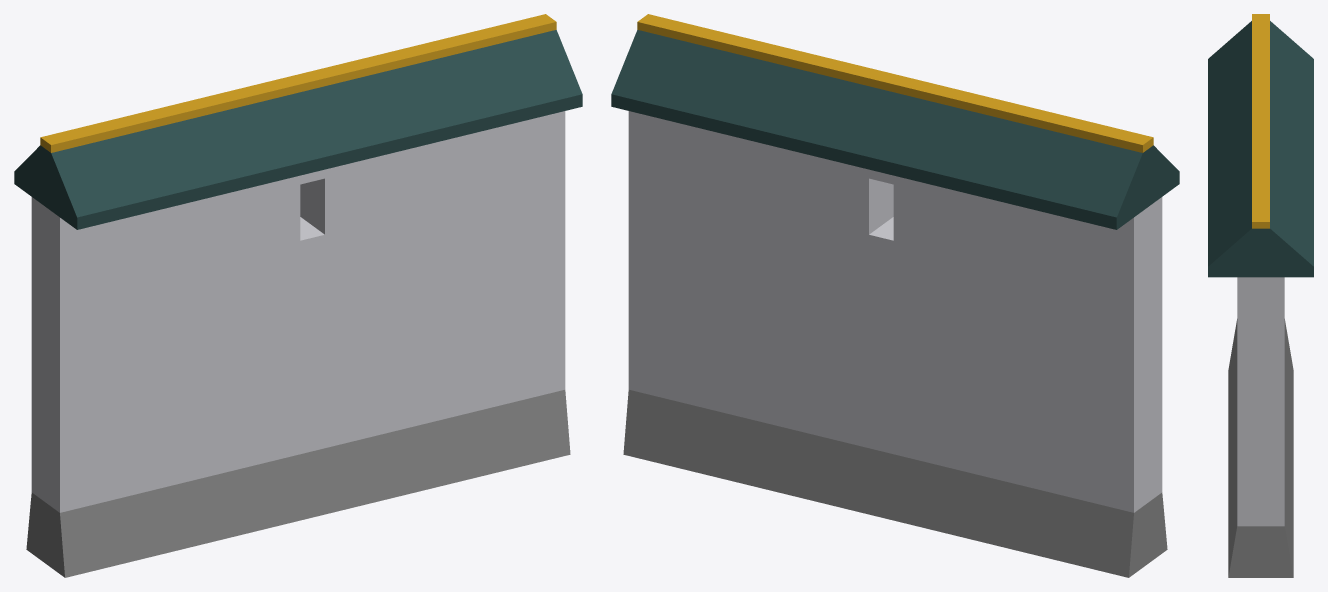
Rendered from Asian_Prop_Building_Fence_Wall_Simple_Embrasure_03.FBX.
3 renders of one model, left to right at view 1: azimuth 30°, elevation 25°; view 2: azimuth 150°, elevation 25°; view 3: azimuth 270°, elevation 25°, orthographic. The views are drawn at different scales.
Visible parts, largest first — view 1: Asian_Prop_Building_Fence_Wall_Simple_Embrasure_03; view 2: Asian_Prop_Building_Fence_Wall_Simple_Embrasure_03; view 3: Asian_Prop_Building_Fence_Wall_Simple_Embrasure_03.
Boxes of the visible parts, x1,y1,x2,y2 form: Asian_Prop_Building_Fence_Wall_Simple_Embrasure_03: [14, 14, 582, 577]; Asian_Prop_Building_Fence_Wall_Simple_Embrasure_03: [611, 14, 1179, 577]; Asian_Prop_Building_Fence_Wall_Simple_Embrasure_03: [1208, 14, 1313, 577].
Bounding box in the file's own units: 5167 × 4128 × 1112.
